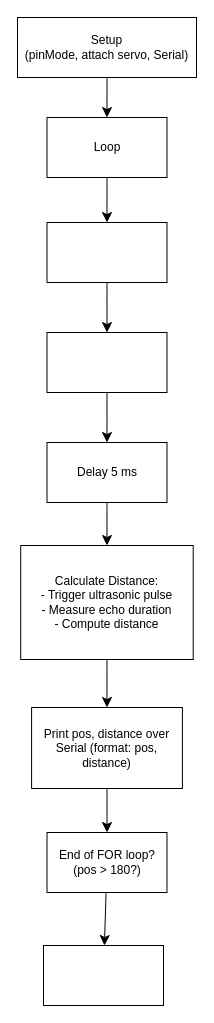
Some shapes in this 214 by 1023 pixel diagram are drawn without their labels. Each missing label, with the centre of its shape:
"For pos = 0 to 180 (step +5)" goes at [106,252].
"Move servo to position 'pos'" goes at [106,362].
"Repeat the loop forever" goes at [103,975].
